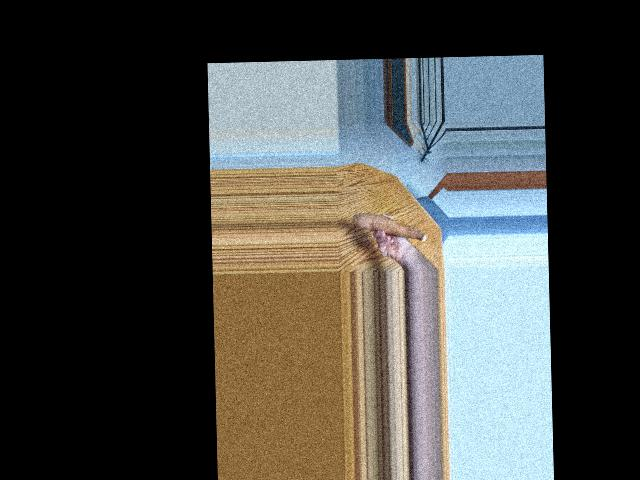sweet_potato: (355, 208, 426, 250)
